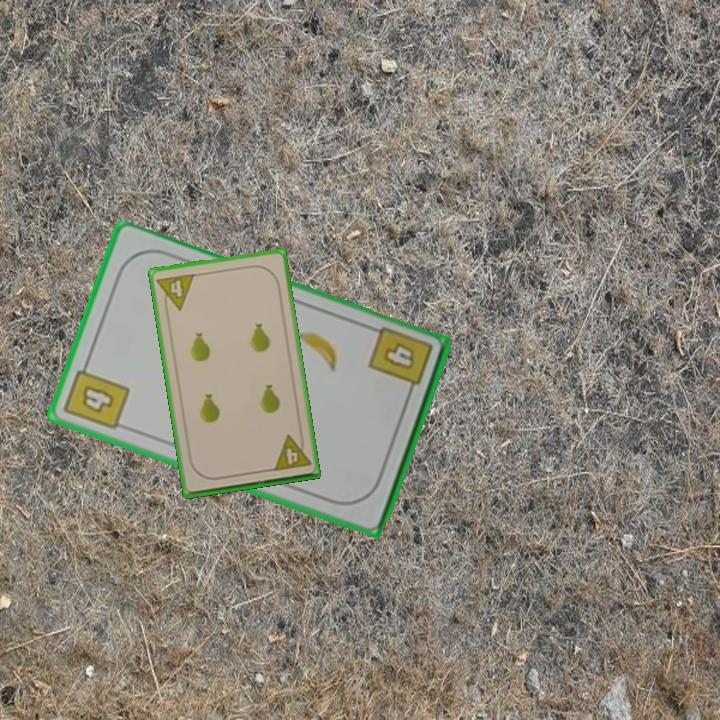4b: (60, 356, 133, 433), (365, 323, 436, 401)
4p: (153, 270, 198, 315), (269, 430, 314, 474)
